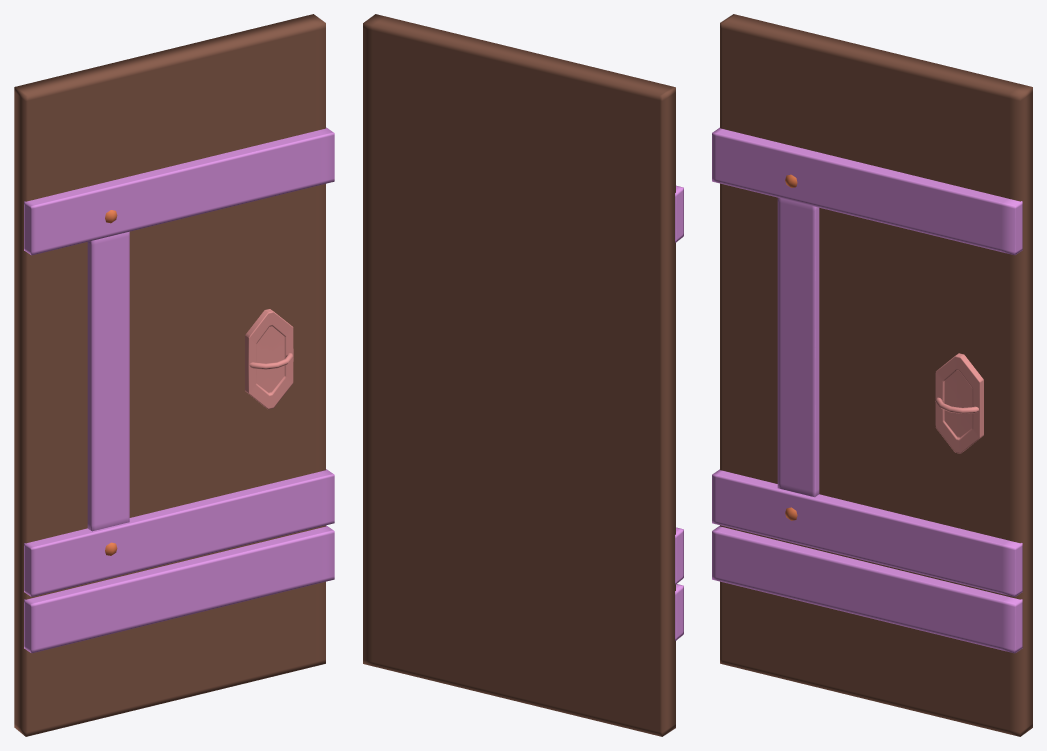
Rendered from door_wooden_01.fbx.
3 views of the same model, side by side, from view 1: azimuth 30°, elevation 25°; view 2: azimuth 150°, elevation 25°; view 3: azimuth 330°, elevation 25° (orthographic).
Parts seen in each view (by area): view 1: Door_Handle_01; view 2: Door_Handle_01; view 3: Door_Handle_01.
Part boxes in pixels (x1=…): Door_Handle_01: x1=14, y1=14, x2=334, y2=736; Door_Handle_01: x1=363, y1=14, x2=683, y2=736; Door_Handle_01: x1=712, y1=14, x2=1032, y2=736.
Bounding box in the file's own units: 48.56 × 98.21 × 6.72.
